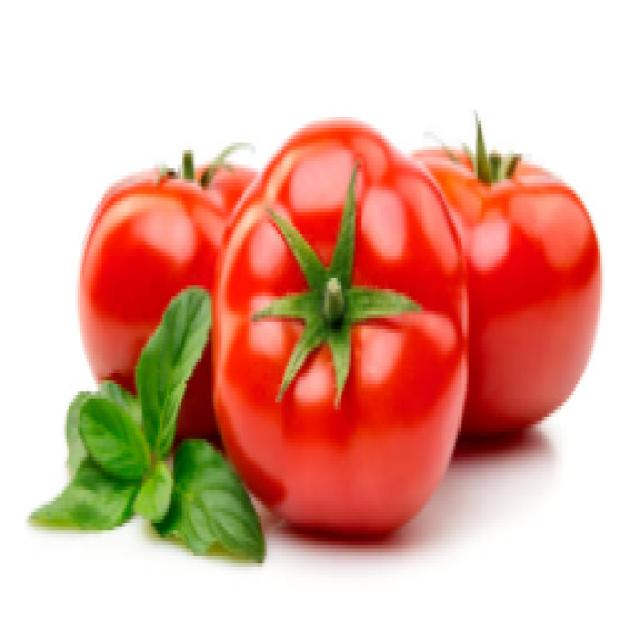Tomato: (204, 129, 467, 529)
